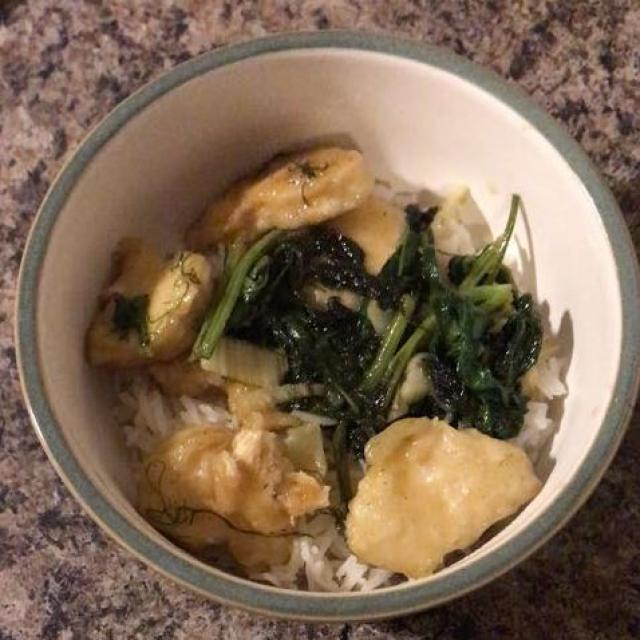rice: (106, 352, 386, 586), (327, 178, 561, 430)
spinach: (214, 213, 535, 510)
veggie-burger: (87, 131, 582, 571)
